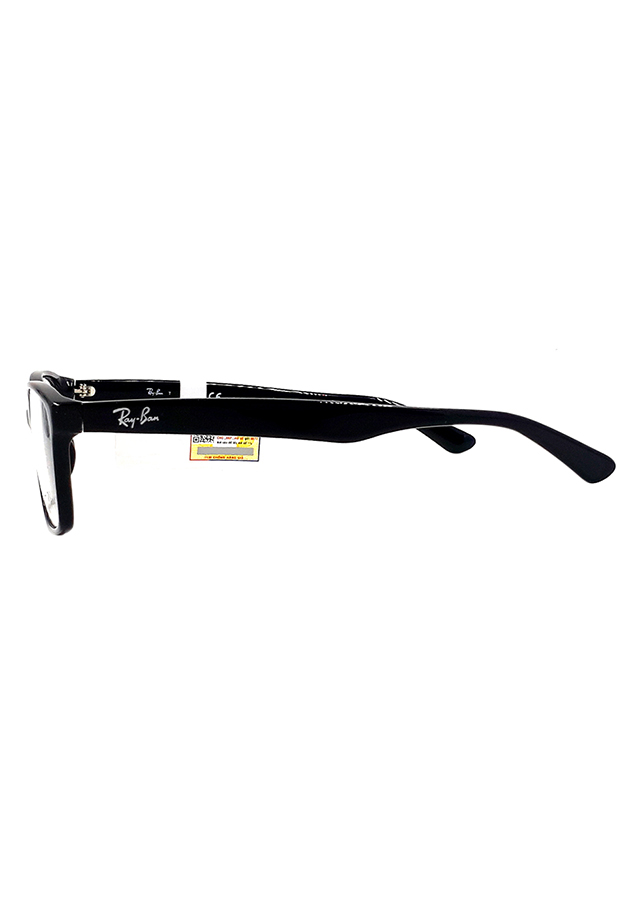Rayban: (108, 400, 171, 432)
